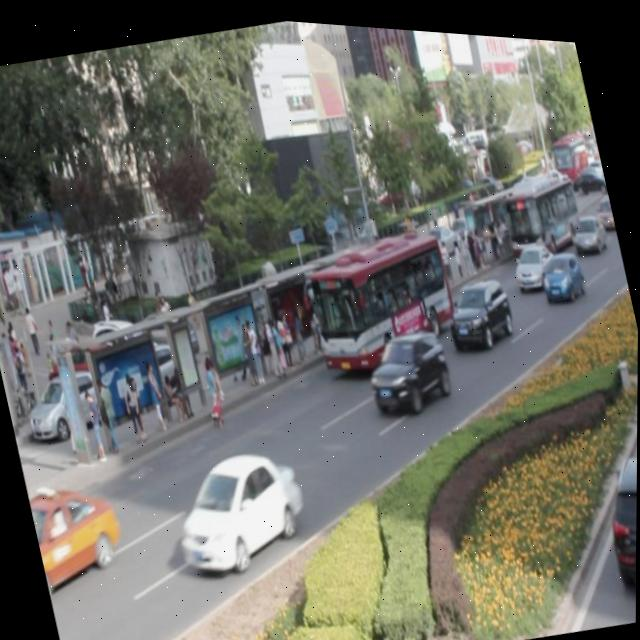car: (163, 435, 316, 580), (27, 472, 129, 598), (361, 317, 454, 414), (440, 266, 517, 346), (536, 238, 587, 296), (508, 231, 558, 286), (567, 200, 608, 248)
van: (301, 215, 463, 376), (498, 166, 585, 257)
